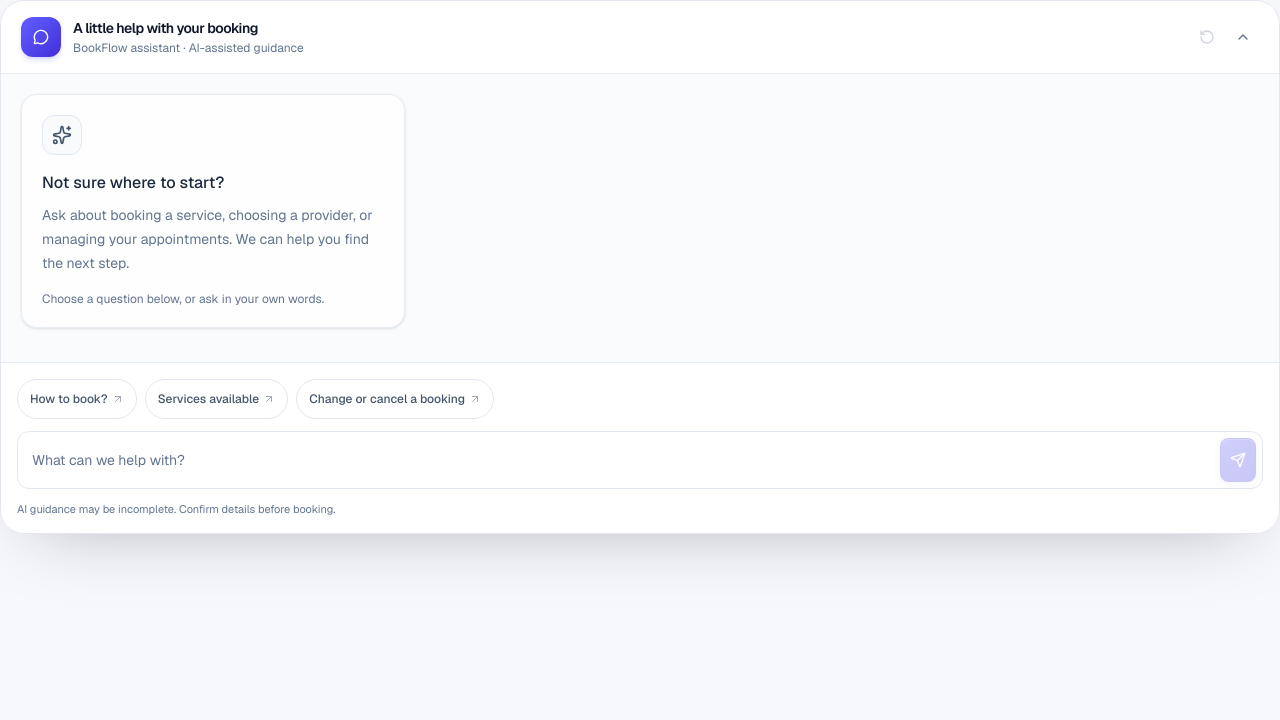
Test: integrated booking assistant › sends a suggested question and displays reply timing
The image size is (1280, 720).
Click the button "How to book?" at x=77, y=399, box [17,379,137,419]
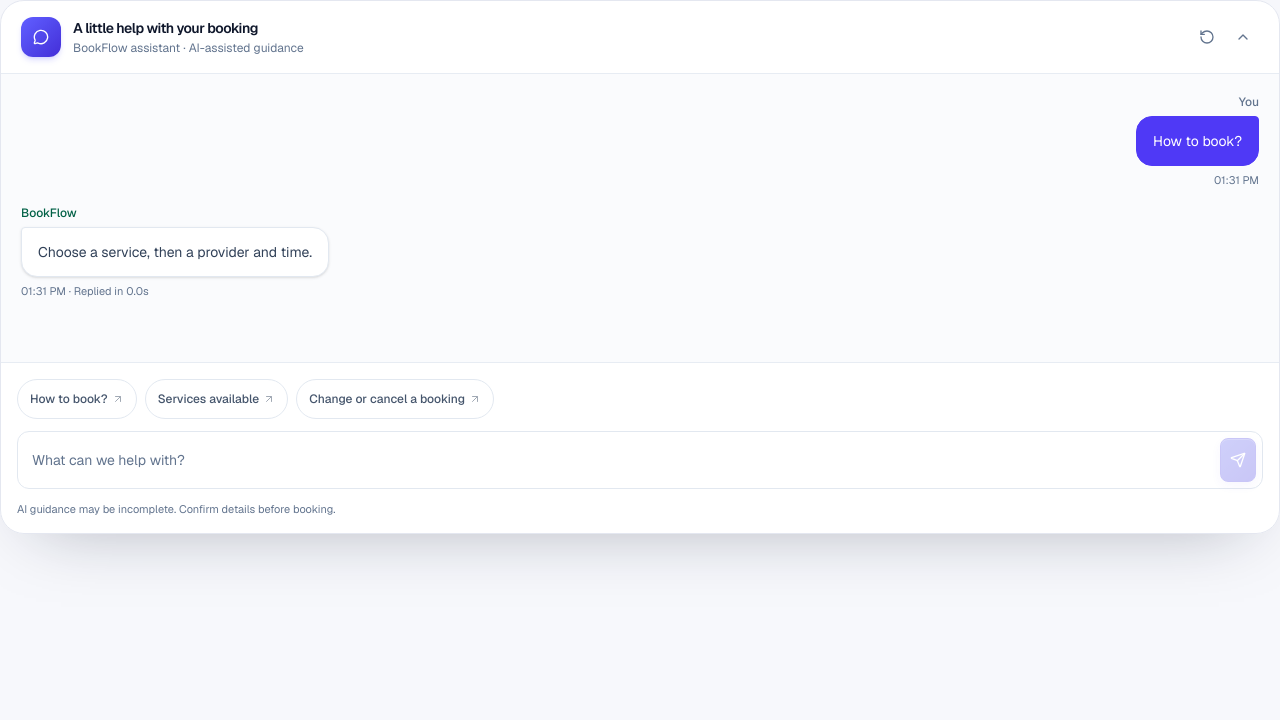
Now the text "Choose a service, then a provider and time." is shown, box [38,240,312,264]
Now the text "01:31 PM · Replied in 0.0s" is shown, box [21,284,149,298]
